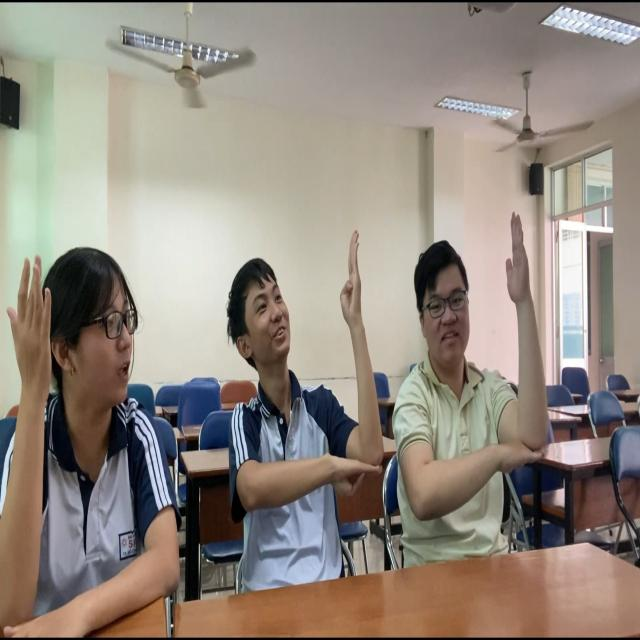raise_hand: (2, 226, 199, 637), (395, 191, 572, 606)
